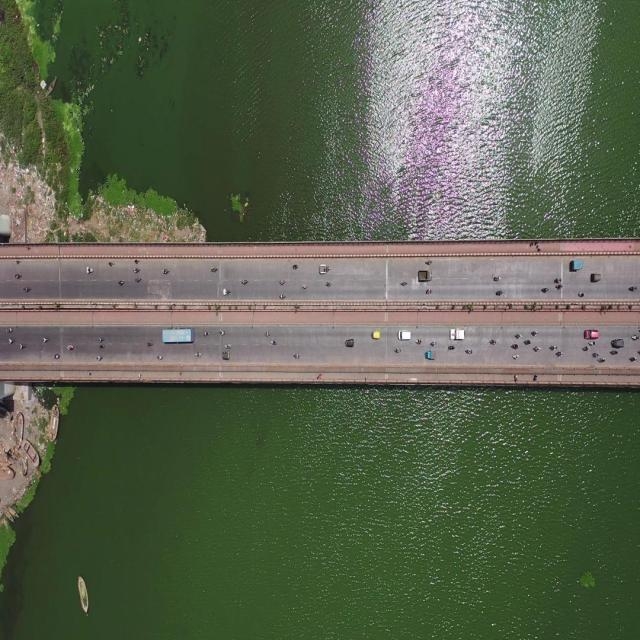3W: (316, 257, 332, 276), (610, 336, 626, 349), (369, 327, 382, 342), (591, 271, 603, 283), (344, 336, 354, 348), (222, 351, 230, 361)
Bus: (161, 324, 195, 343)
Cars: (397, 328, 413, 341), (581, 328, 598, 338)
M2W: (53, 349, 66, 368), (15, 338, 28, 354), (7, 337, 19, 352), (12, 255, 24, 267), (85, 264, 96, 276), (278, 292, 289, 304), (424, 283, 435, 295), (4, 324, 14, 337), (144, 338, 154, 351), (156, 349, 166, 362), (96, 352, 106, 364), (423, 257, 433, 269), (293, 347, 302, 360), (133, 267, 143, 278), (218, 327, 228, 338), (492, 272, 502, 283), (22, 283, 31, 295), (300, 280, 309, 292), (429, 336, 438, 348), (239, 276, 249, 286), (97, 334, 106, 345), (326, 278, 333, 291), (13, 270, 22, 280), (66, 346, 76, 355), (211, 266, 220, 276), (221, 288, 231, 297), (270, 337, 279, 347), (279, 277, 288, 287), (448, 343, 457, 353), (532, 344, 541, 354), (549, 341, 558, 351), (540, 285, 550, 294), (628, 284, 637, 294), (495, 286, 502, 298), (510, 341, 519, 350), (118, 278, 126, 288), (160, 268, 170, 276), (223, 341, 233, 349), (582, 344, 590, 354), (42, 334, 49, 345), (135, 277, 146, 284), (194, 349, 202, 358), (514, 331, 523, 339), (512, 352, 521, 360), (555, 282, 563, 291), (262, 329, 272, 336), (578, 289, 585, 299), (596, 356, 606, 363), (628, 355, 638, 362), (108, 259, 115, 269), (415, 336, 421, 347), (464, 346, 472, 354), (202, 328, 209, 337), (291, 264, 300, 271), (399, 279, 408, 286), (490, 336, 497, 345), (523, 338, 532, 345), (530, 330, 539, 337), (553, 276, 562, 283), (591, 352, 600, 359), (631, 334, 640, 341), (132, 257, 141, 264), (588, 340, 598, 346), (610, 349, 620, 355), (394, 344, 401, 352), (98, 342, 105, 349), (555, 351, 562, 358)
Truck: (569, 257, 585, 274), (448, 325, 466, 340), (418, 268, 432, 283), (424, 350, 439, 361)
